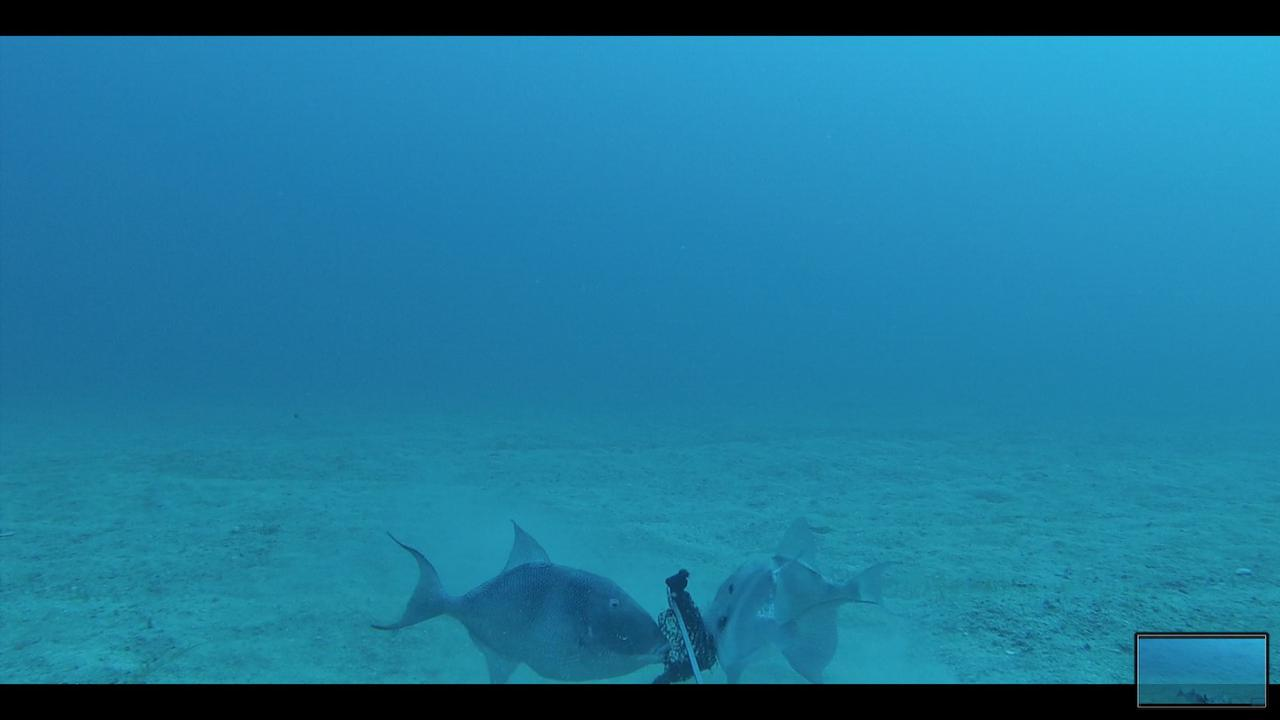balistes: (361, 524, 667, 682), (698, 514, 907, 643), (711, 546, 875, 682)
